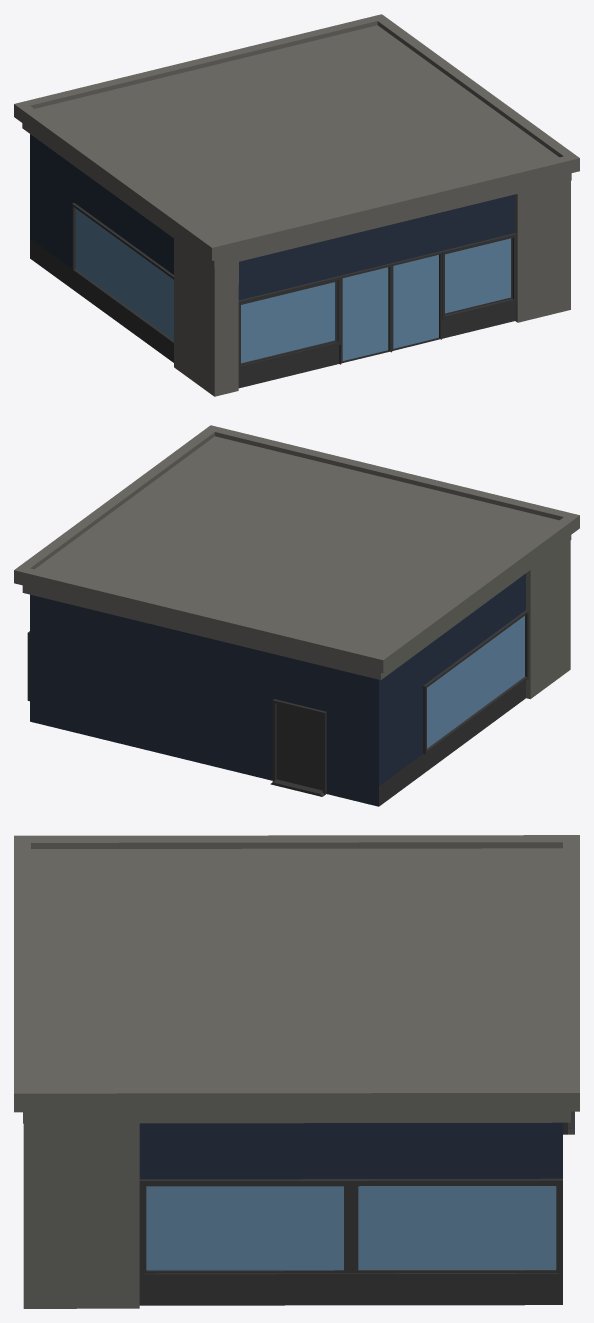
Rendered from Supermarket.fbx.
3 renders of one model, top to bottom at view 1: azimuth 30°, elevation 25°; view 2: azimuth 150°, elevation 25°; view 3: azimuth 270°, elevation 25°, orthographic. The views are drawn at different scales.
Parts seen in each view (by area): view 1: pCube1; view 2: pCube1; view 3: pCube1.
Boxes of the visible parts, x1,y1,x2,y2 form: pCube1: (14, 14, 579, 396); pCube1: (14, 425, 579, 806); pCube1: (14, 835, 579, 1308).
Size of the model in its own units: 1028 by 407 by 951.
